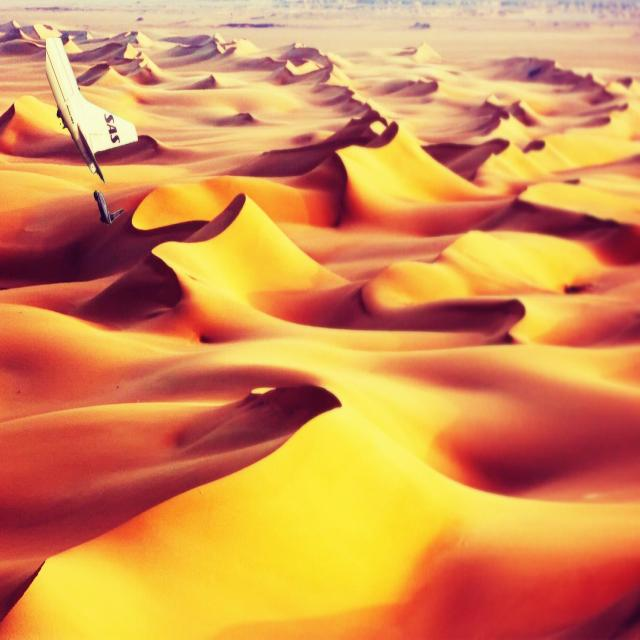airplane: (46, 38, 138, 185), (92, 190, 124, 225)
